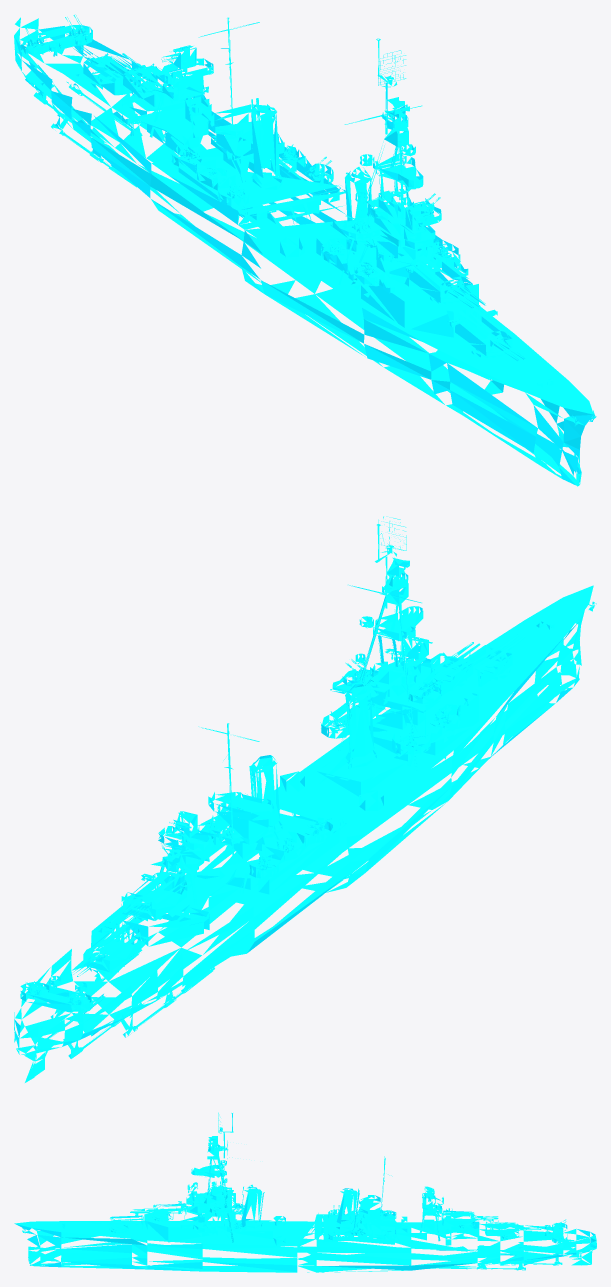
File: PASC012.glb
3 renders of one model, top to bottom at view 1: azimuth 30°, elevation 25°; view 2: azimuth 150°, elevation 25°; view 3: azimuth 270°, elevation 25°, orthographic. The views are drawn at different scales.
Visible parts, largest first — view 1: hull, turret; view 2: hull, turret; view 3: hull, turret.
Boxes of the visible parts, x1,y1,x2,y2 form: hull: [14, 14, 596, 486]; turret: [71, 43, 525, 361]; hull: [14, 516, 596, 1082]; turret: [71, 634, 525, 976]; hull: [14, 1112, 596, 1272]; turret: [88, 1201, 541, 1236].
Size of the model in its own units: 1.33 by 3.45 by 11.92.
